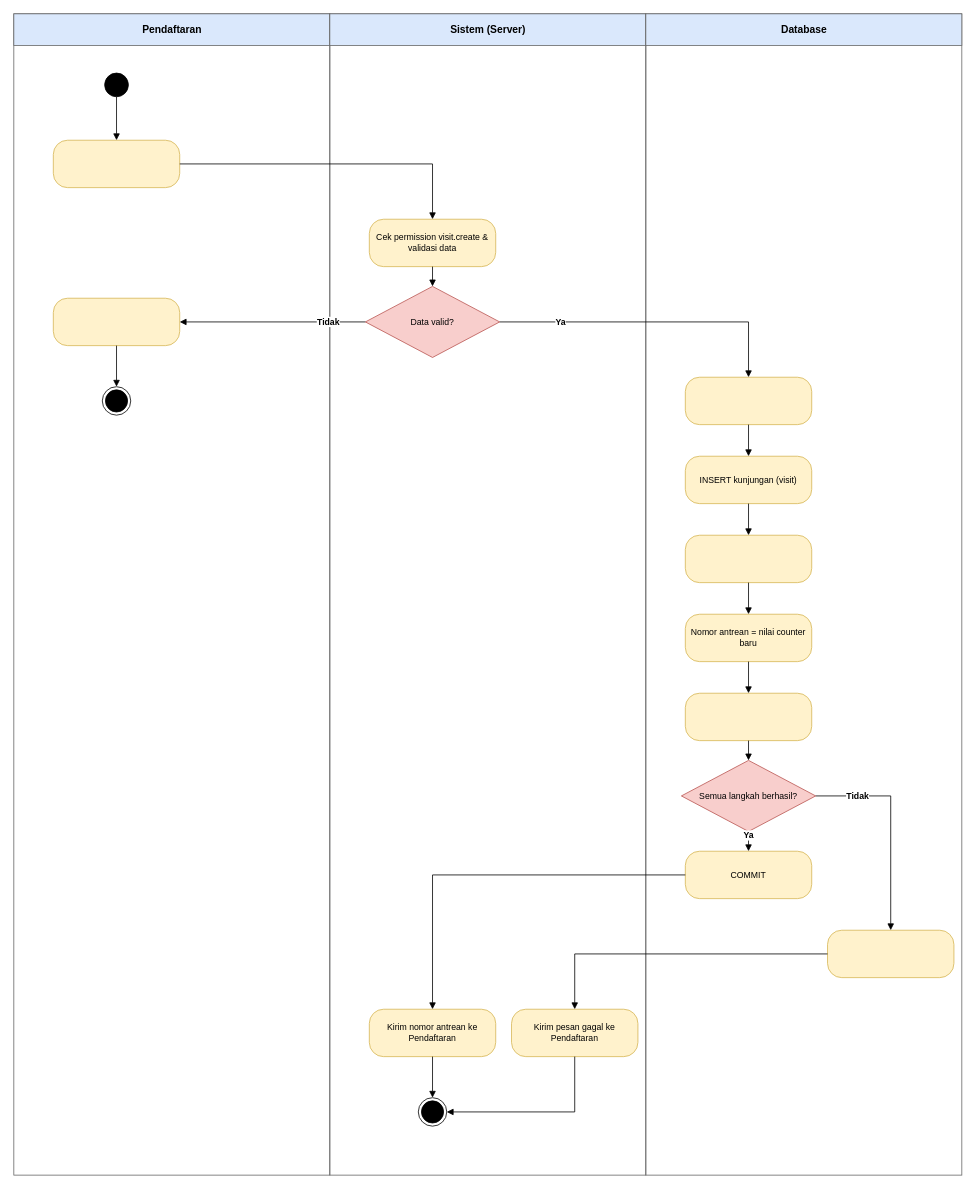
Image size: 976x1189. Some labels were removed from this diagram. The centre of each missing label's shape, as x and y in pixels:
BEGIN transaksi: (748,400)
INSERT antrean (status Menunggu): (748,716)
Lock baris counter (poli + tanggal) & naikkan nilainya: (748,558)
Pilih pasien & poli, buat kunjungan: (116,163)
ROLLBACK: (890,953)
Tampilkan pesan error: (116,321)
